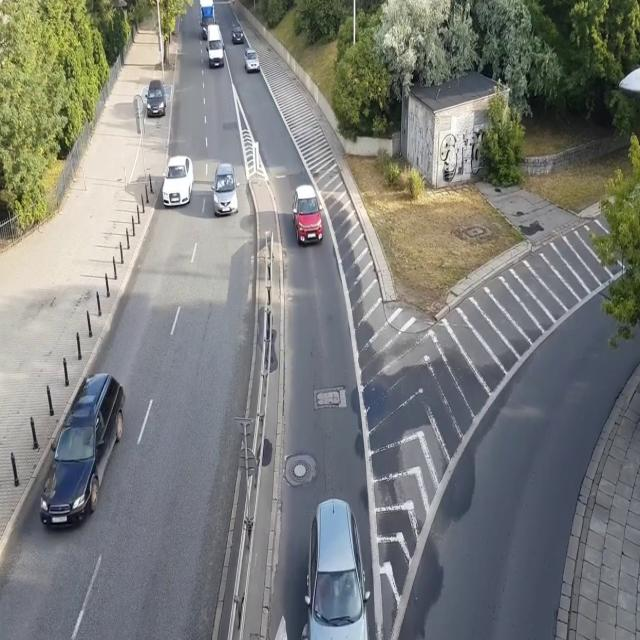car: (38, 370, 126, 533), (303, 498, 370, 640), (293, 185, 324, 246), (162, 154, 195, 206), (210, 162, 241, 217), (144, 80, 167, 118), (243, 49, 260, 74), (232, 23, 244, 44)
truck: (199, 0, 216, 39)
van: (205, 23, 225, 68)
